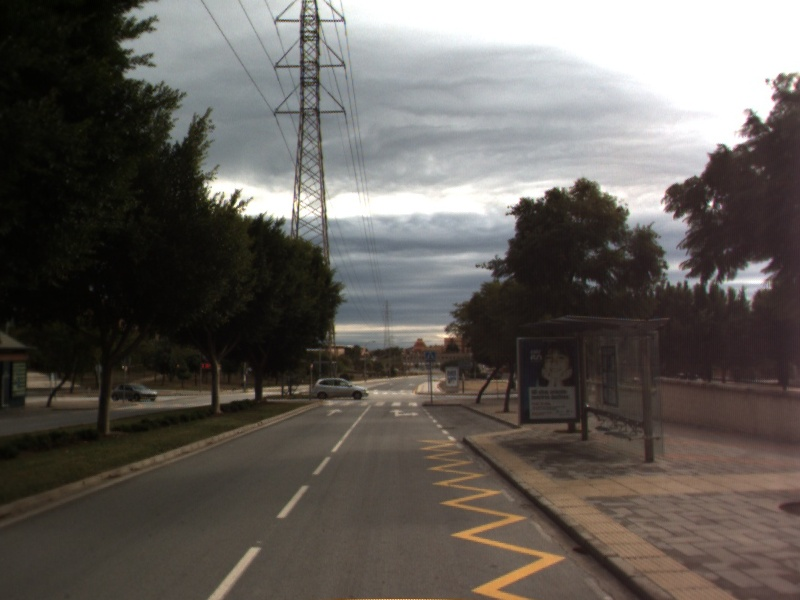STRAIGHT: (324, 407, 345, 418)
STRAIGHT_RIGHT: (387, 407, 421, 419)
